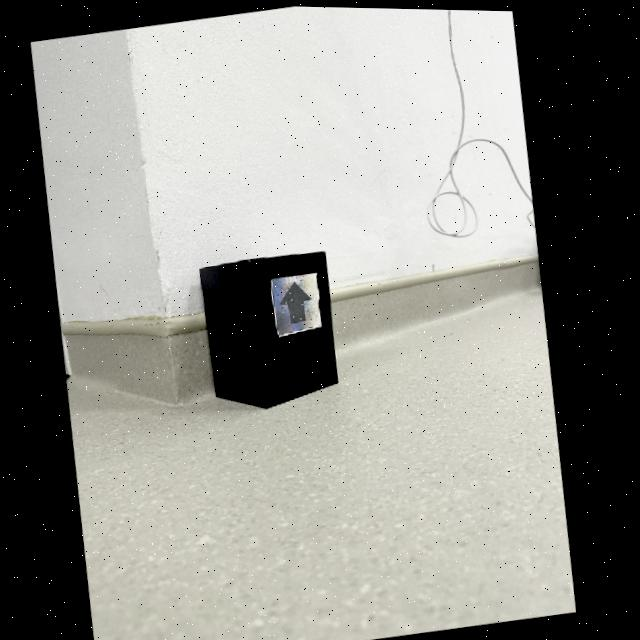UP: (283, 280, 316, 323)
